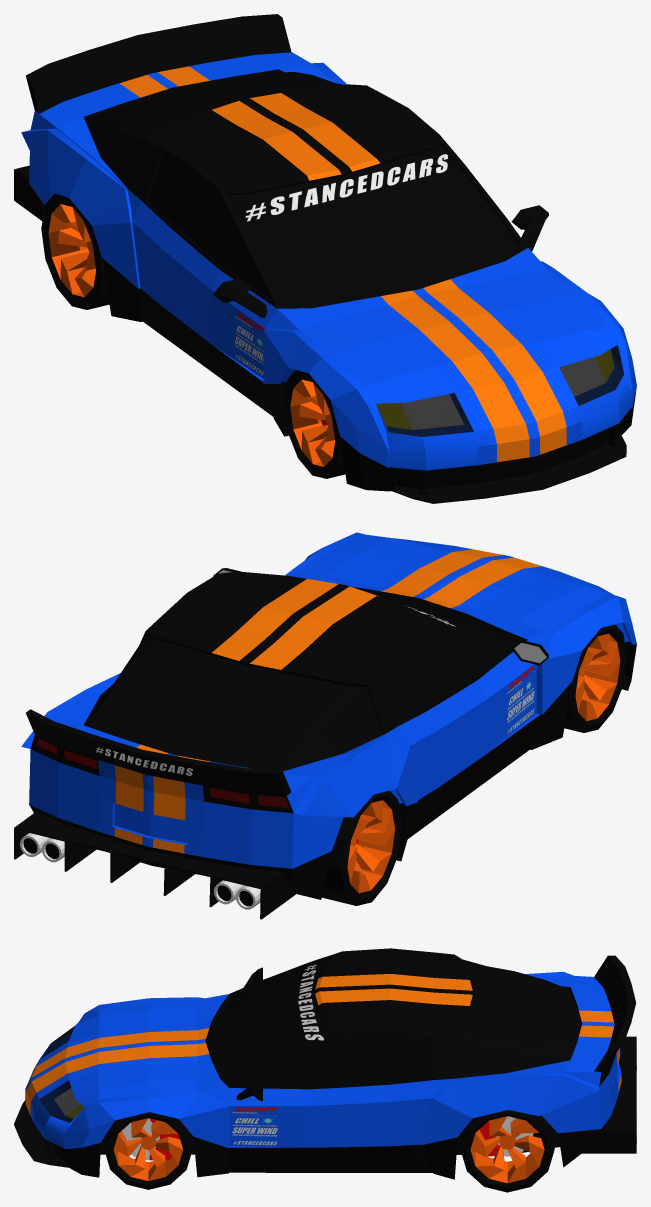
The model's file is carLow.glb.
3 views of the same model, one above another, from view 1: azimuth 30°, elevation 25°; view 2: azimuth 150°, elevation 25°; view 3: azimuth 270°, elevation 25° (orthographic). The views are drawn at different scales.
Visible parts, largest first — view 1: Muscle car 2.Body, 5.Wheel.Bk.R, 5.Wheel.Ft.R; view 2: Muscle car 2.Body, 5.Wheel.Bk.R, 5.Wheel.Ft.R; view 3: Muscle car 2.Body, 5.Wheel.Bk.L, 5.Wheel.Ft.L.
Part boxes in pixels (<box>): Muscle car 2.Body: <box>14,14,636,503</box>; 5.Wheel.Bk.R: <box>41,193,109,309</box>; 5.Wheel.Ft.R: <box>283,370,345,478</box>; Muscle car 2.Body: <box>14,532,636,919</box>; 5.Wheel.Bk.R: <box>321,790,402,905</box>; 5.Wheel.Ft.R: <box>564,625,626,732</box>; Muscle car 2.Body: <box>14,948,636,1179</box>; 5.Wheel.Bk.L: <box>460,1110,554,1192</box>; 5.Wheel.Ft.L: <box>104,1112,192,1189</box>.
Size of the model in its own units: 2.26 by 1.25 by 4.72.
20 materials, 4 textured.
